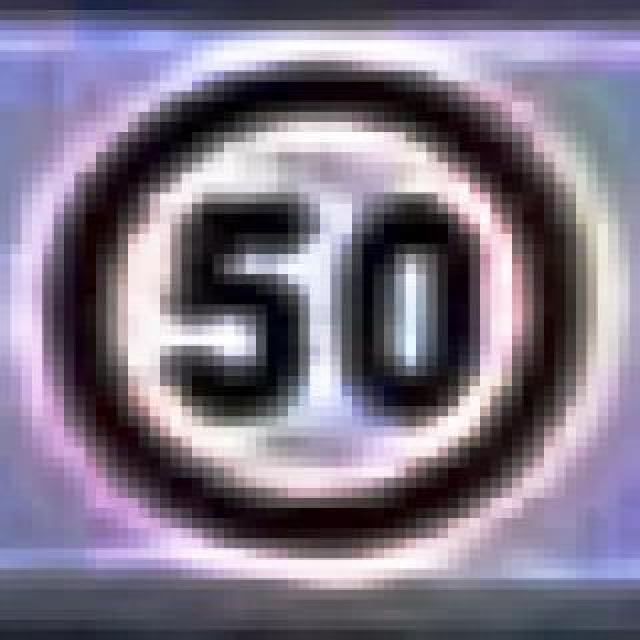50 kph: (32, 52, 588, 560)
